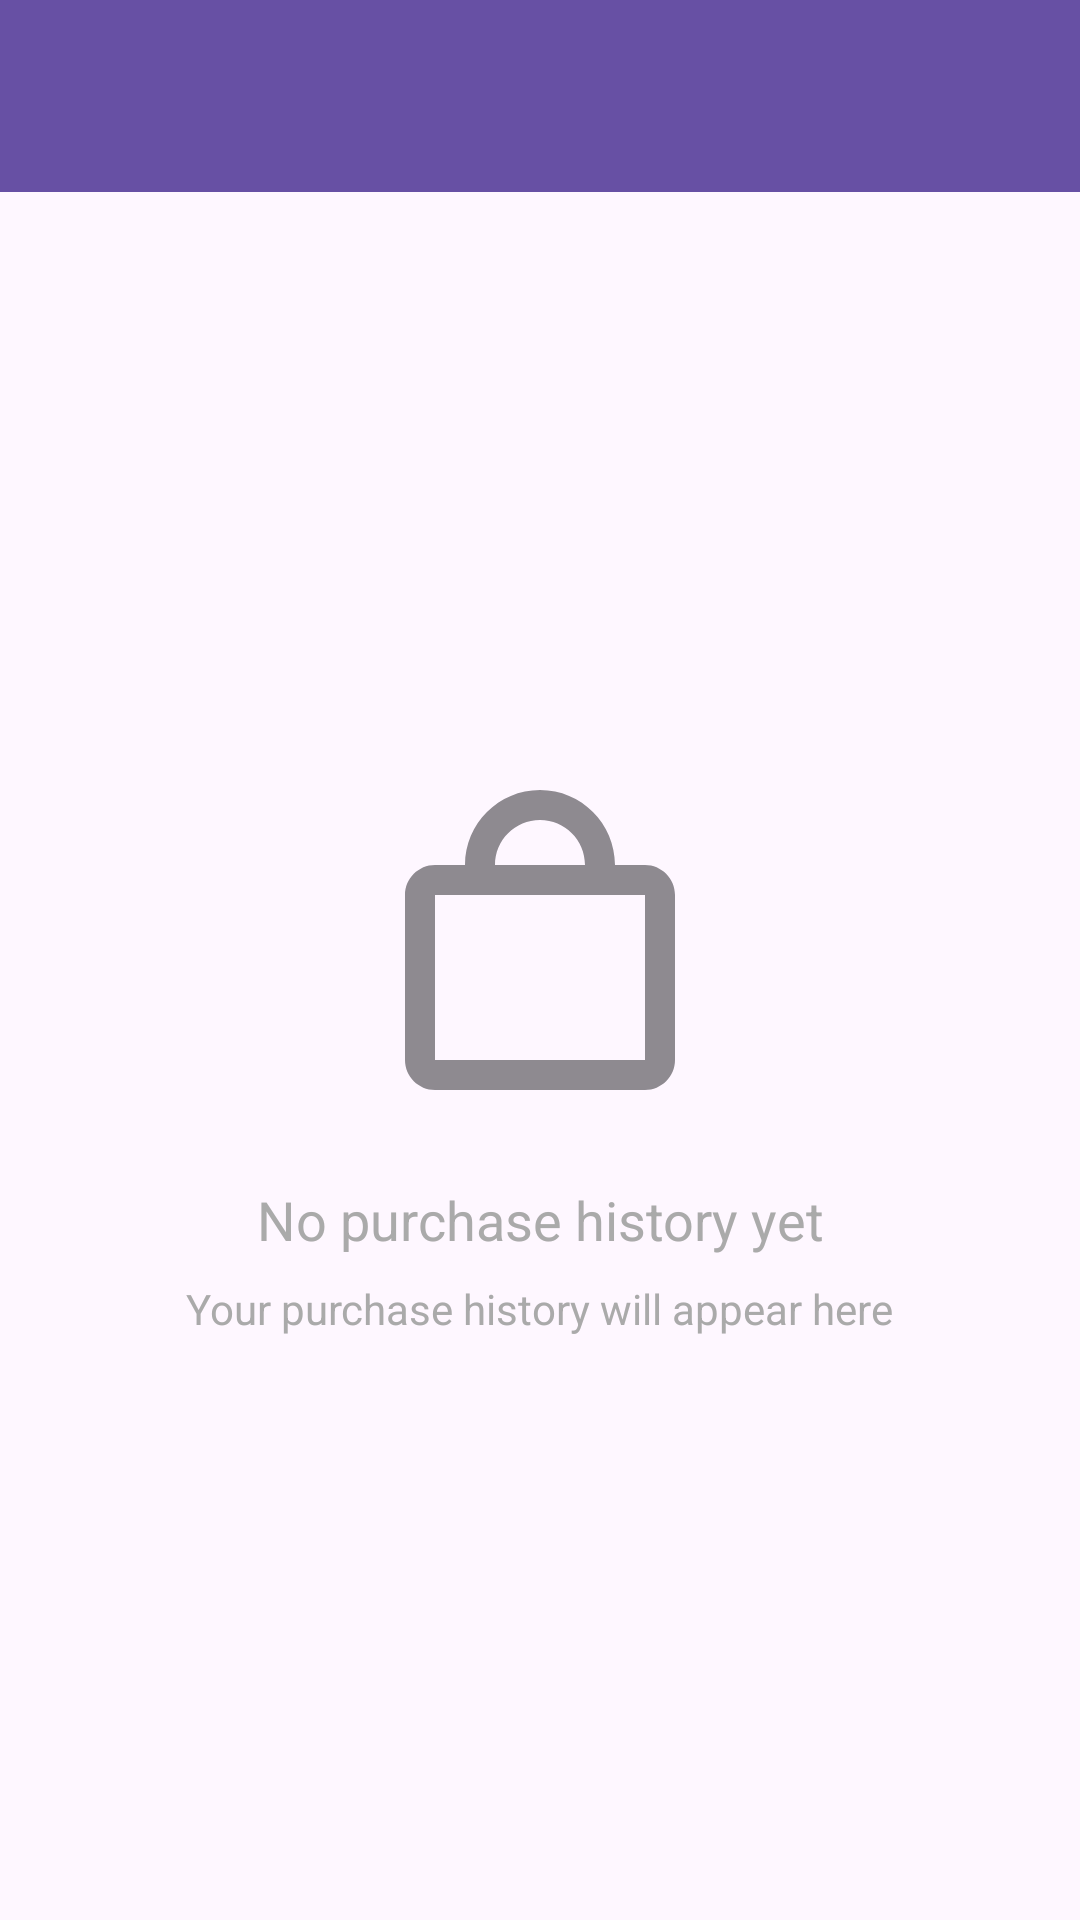

Named icons in this screenshot (1080px x 1920px) and their bounding boxes, (x1, y1, x2, y2):
shopping bag: (405, 790, 675, 1090)
